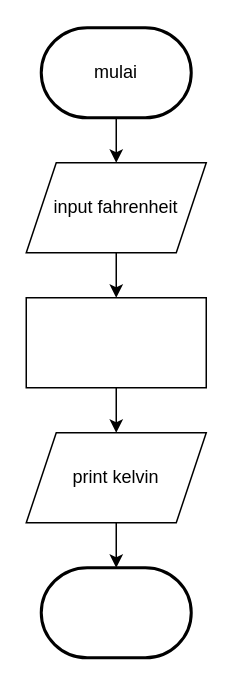
Image size: 233x684. Some labels were removed from this diagram. Here are the shapes that lost their labels. From the top down, the centre of each, then its label:
At (115,342): "kelvin ← (fahrenheit - 32) * 5/9 + 273".
At (115,612): "selesai".
